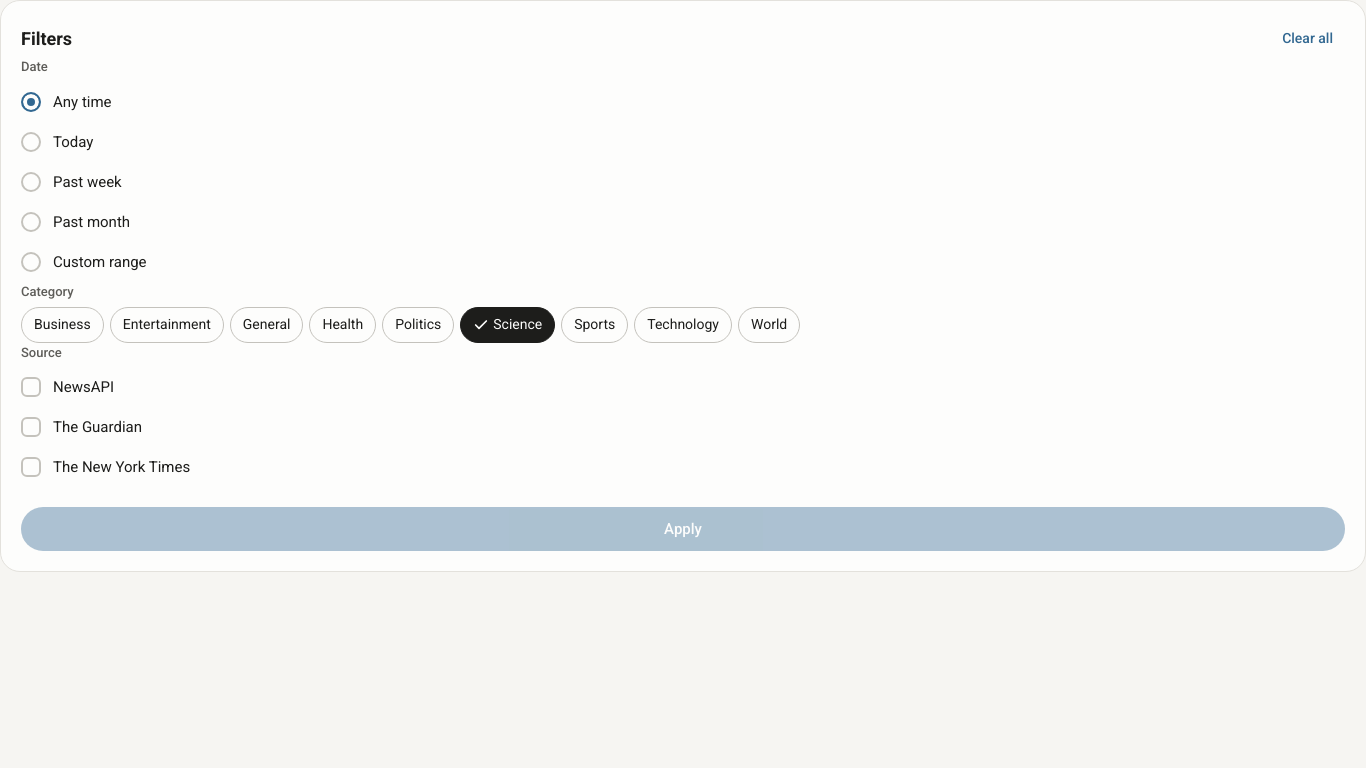
FilterSidebar › warns about coverage only when a selected category can't come from a source
The width and height of the screenshot is (1366, 768).
Expected: the text "Doesn’t cover" is not shown
What coordinates should you click on to do the following:
click the button "Health"
I would click on:
 (343, 325)
Its box is [309,307,376,343].
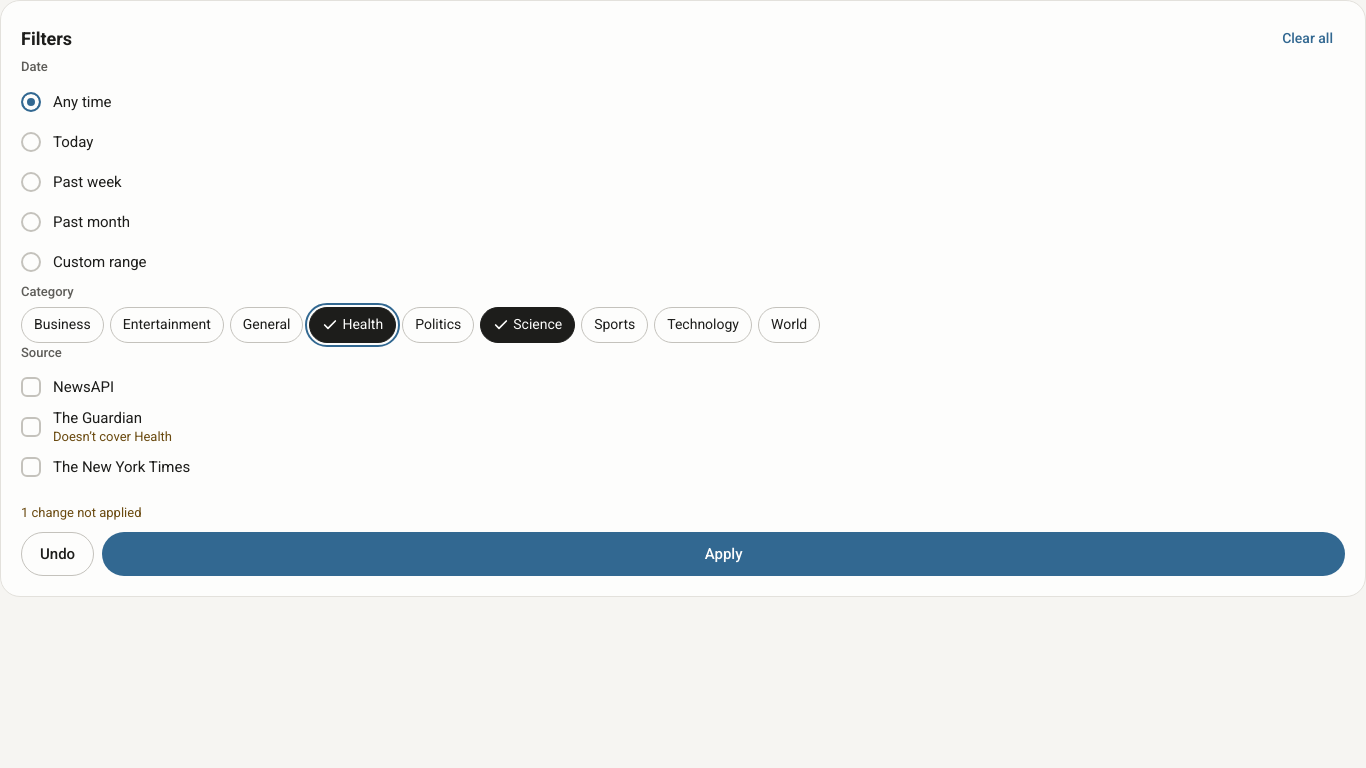
Expected: the text "Doesn’t cover Health" is shown, [53,429,172,446]
